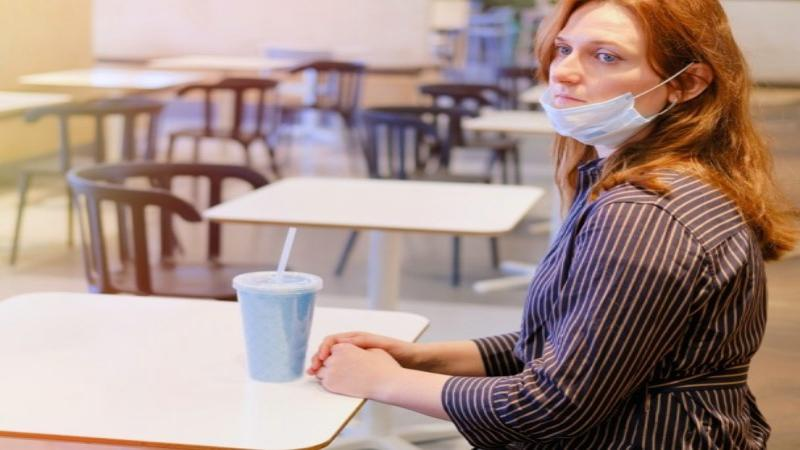mask_weared_incorrect: (540, 1, 742, 148)
